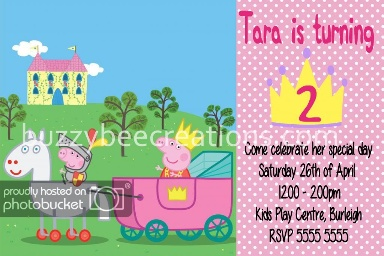Peppa: (153, 122, 194, 182)
